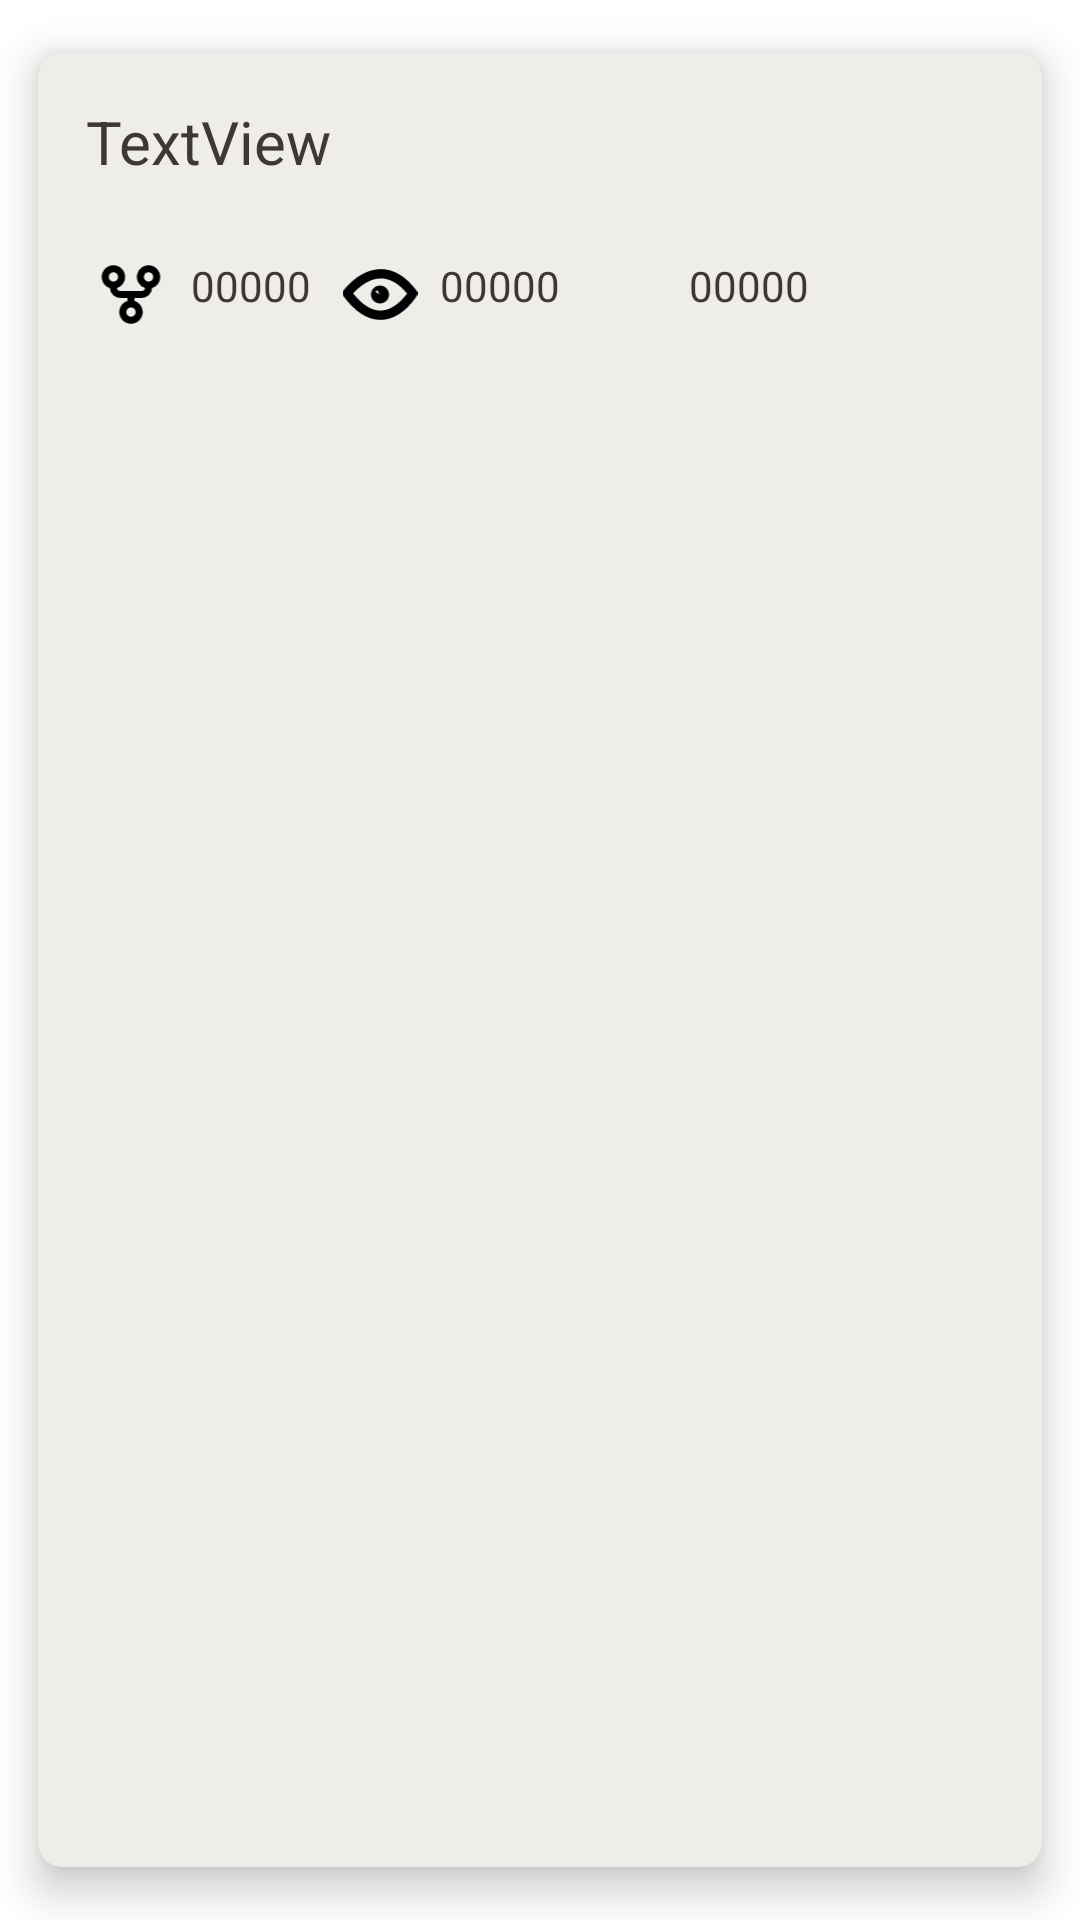

Where icons sit on this 1080×1920 app screen, as [x1,y1,x2,y2]:
git fork: [101,265,161,324]
git watcher: [343,269,418,320]
